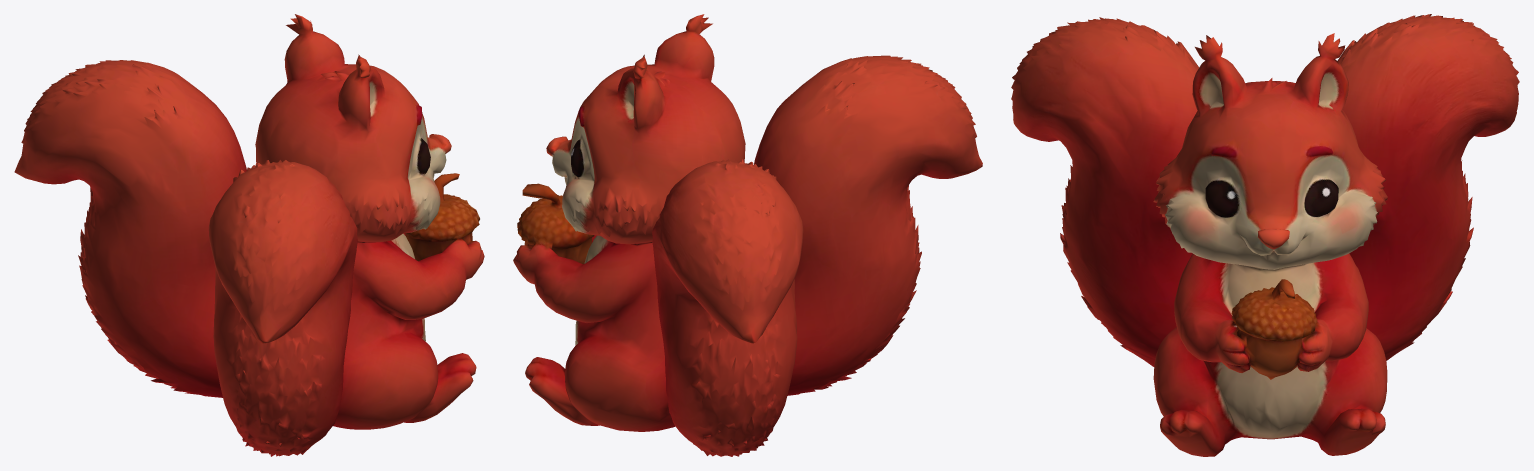
File: squirrel.glb
3 views of the same model, side by side, from view 1: azimuth 30°, elevation 25°; view 2: azimuth 150°, elevation 25°; view 3: azimuth 270°, elevation 25° (orthographic). The views are drawn at different scales.
Parts seen in each view (by area): view 1: tripo_node_53b448be-a783-4b40-852f-c96e514f62f3; view 2: tripo_node_53b448be-a783-4b40-852f-c96e514f62f3; view 3: tripo_node_53b448be-a783-4b40-852f-c96e514f62f3.
Boxes of the visible parts, x1,y1,x2,y2 form: tripo_node_53b448be-a783-4b40-852f-c96e514f62f3: [14, 14, 484, 456]; tripo_node_53b448be-a783-4b40-852f-c96e514f62f3: [513, 14, 982, 456]; tripo_node_53b448be-a783-4b40-852f-c96e514f62f3: [1011, 14, 1519, 456].
Size of the model in its own units: 0.2461 by 0.25 by 0.294.
1 material, 1 textured.
